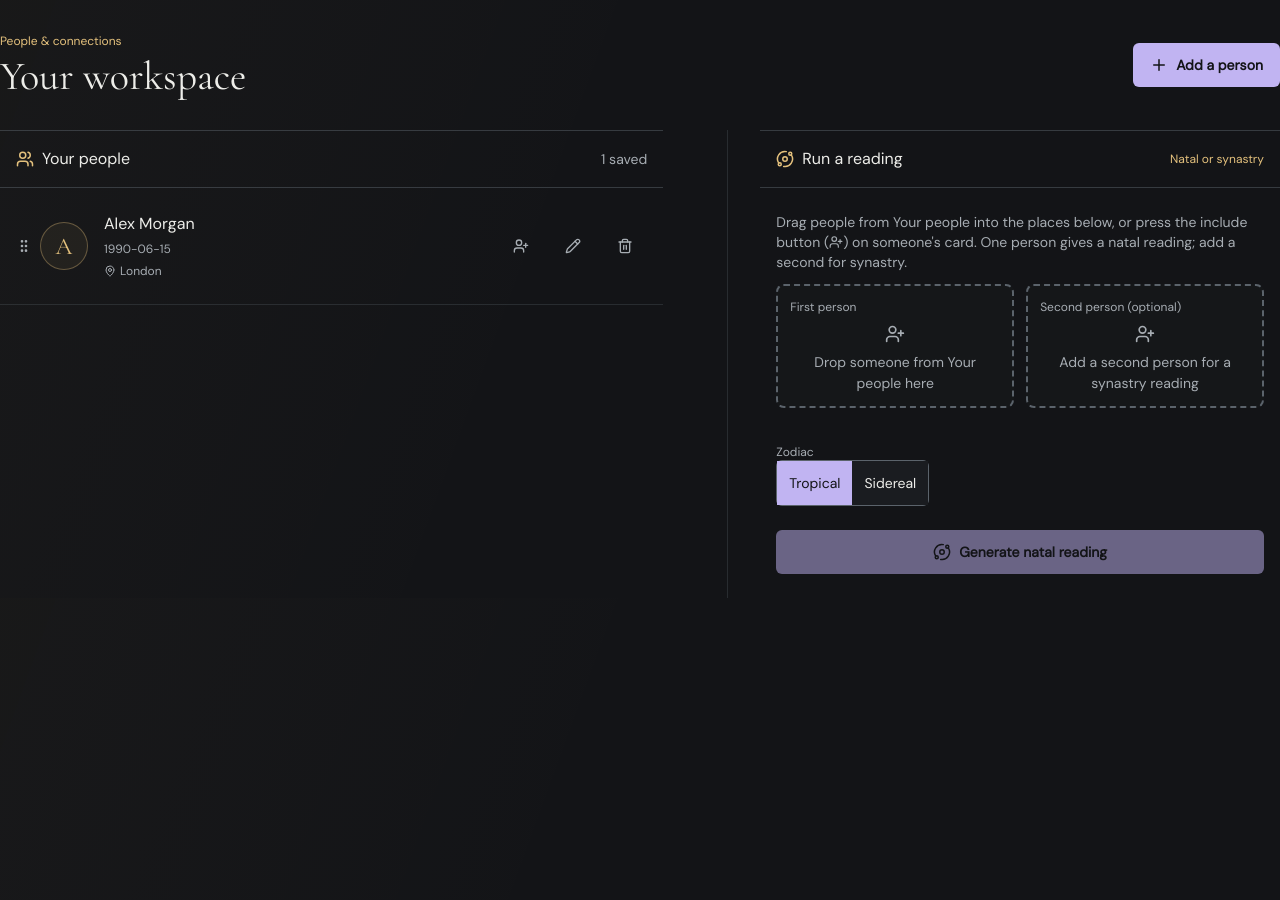
Test: Workspace person dialogs › does not remove a person until confirmed, and preserves the dialog after failure
The width and height of the screenshot is (1280, 900).
Click the button named "Remove Alex Morgan": (625, 246) x1=603 y1=224 x2=647 y2=268
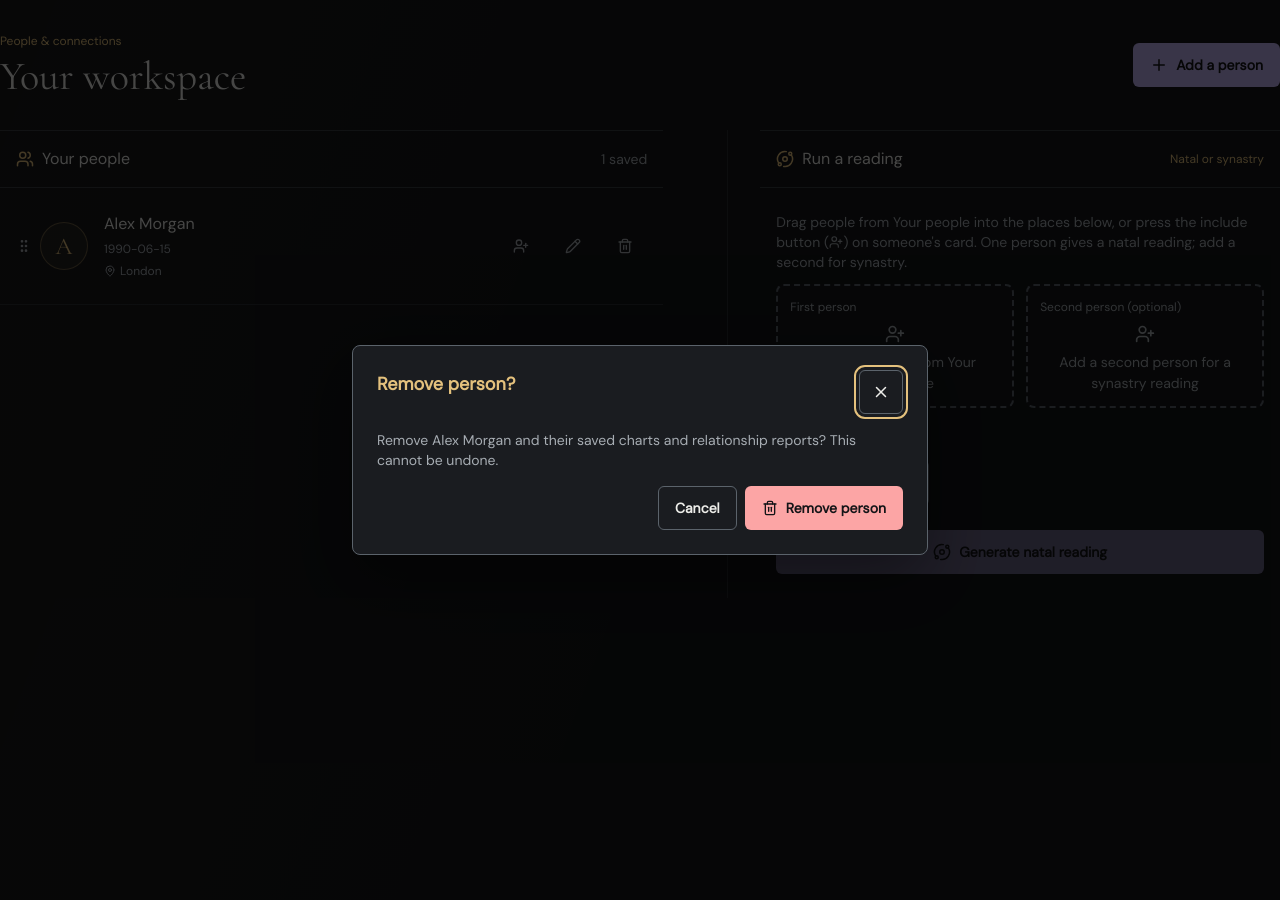
Click the button "Cancel": (697, 508) x1=658 y1=486 x2=737 y2=530
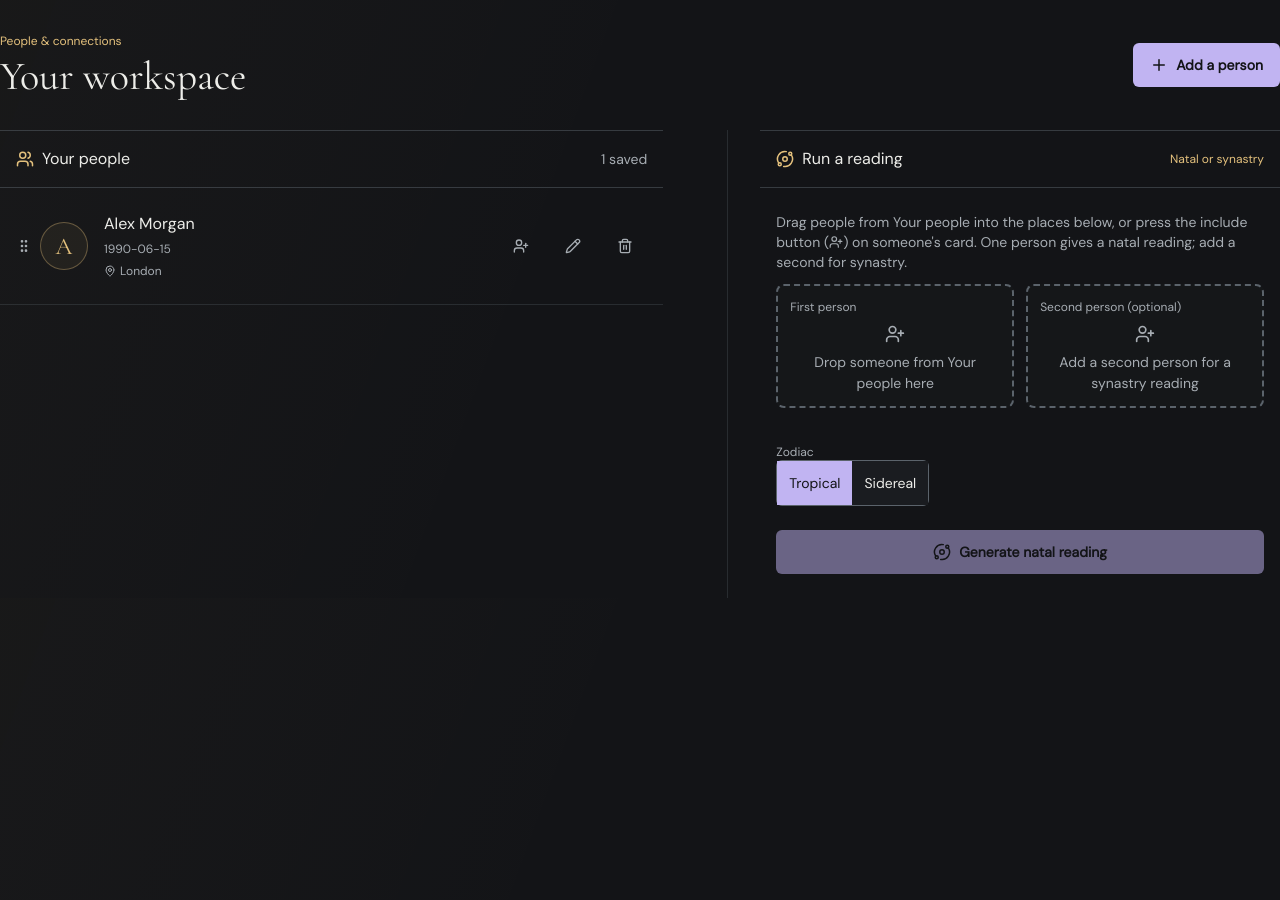
Expected: the dialog is gone
Click the button named "Remove Alex Morgan": (625, 246) x1=603 y1=224 x2=647 y2=268
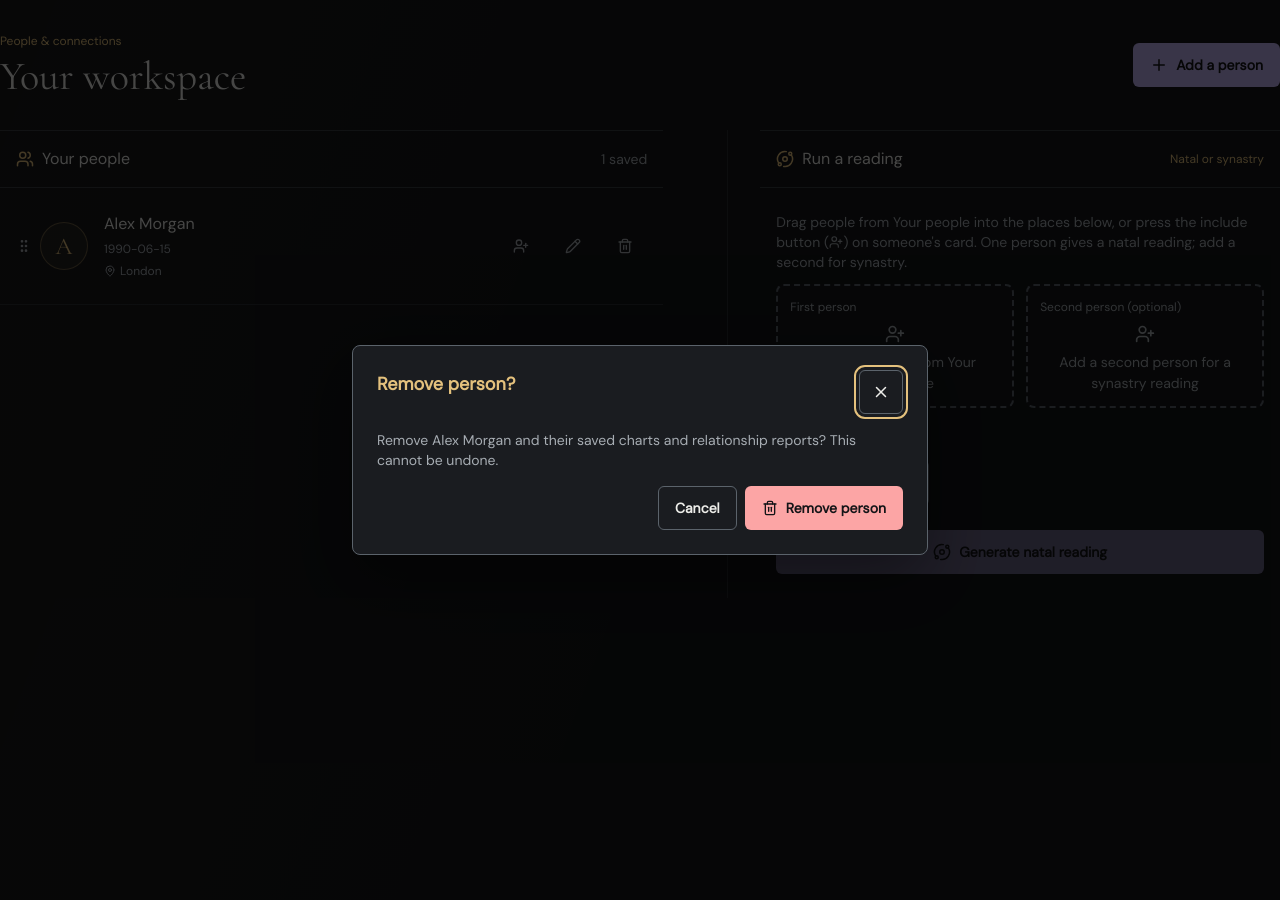
Click the button "Remove person": (824, 508) x1=745 y1=486 x2=903 y2=530
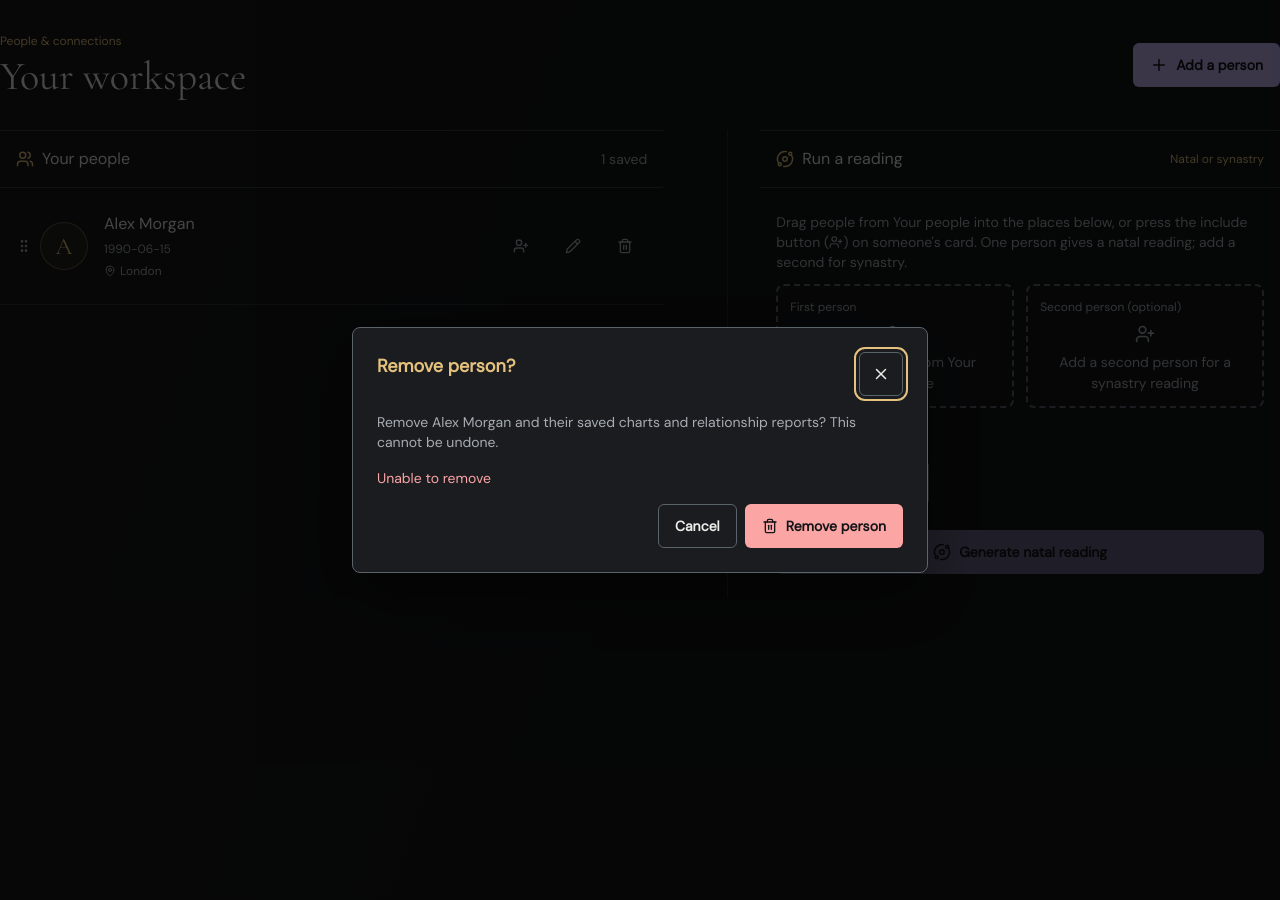
Expected: the message reads "Unable to remove", x1=377 y1=469 x2=491 y2=487
Click the button "Remove person": (824, 526) x1=745 y1=504 x2=903 y2=548
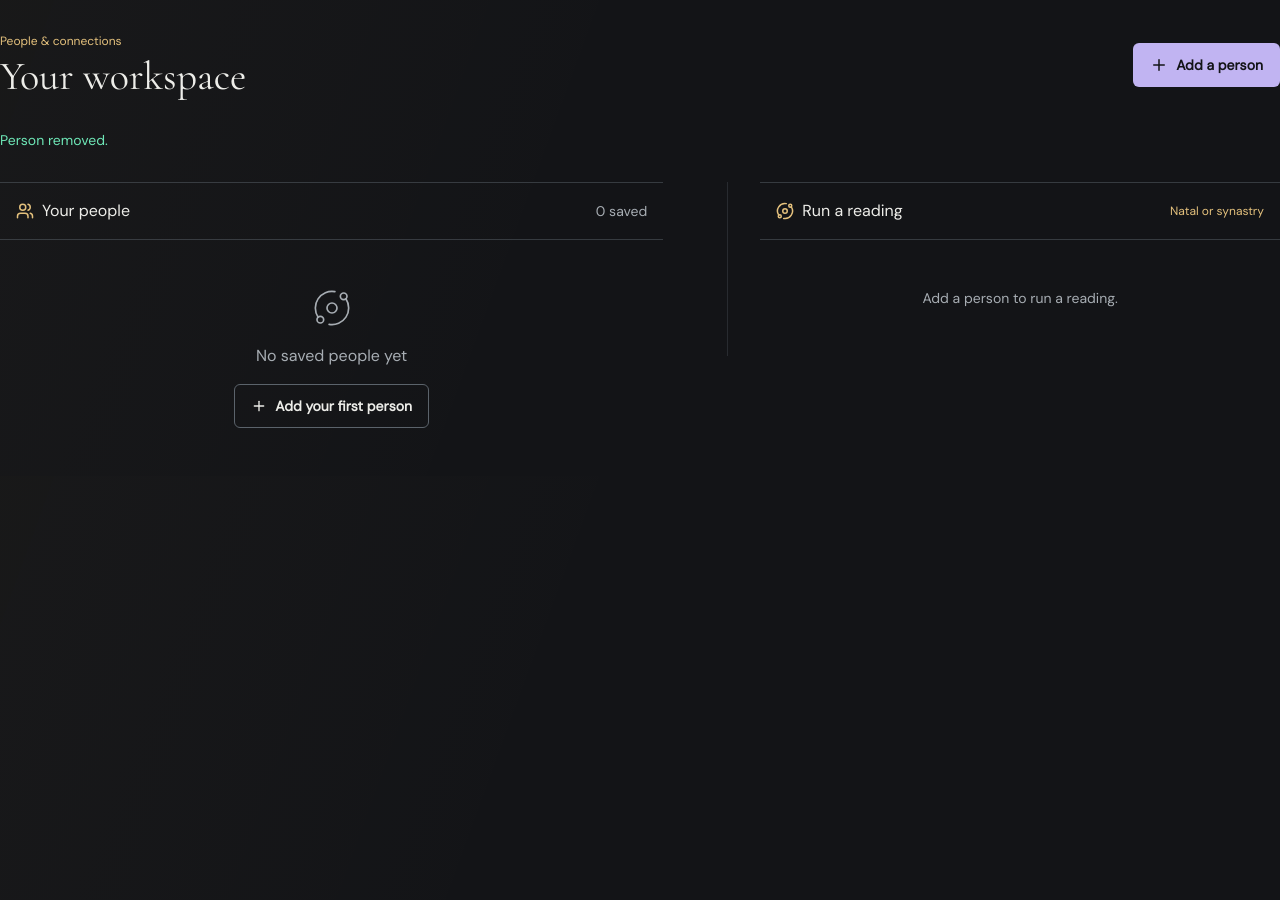
Expected: the dialog is gone
